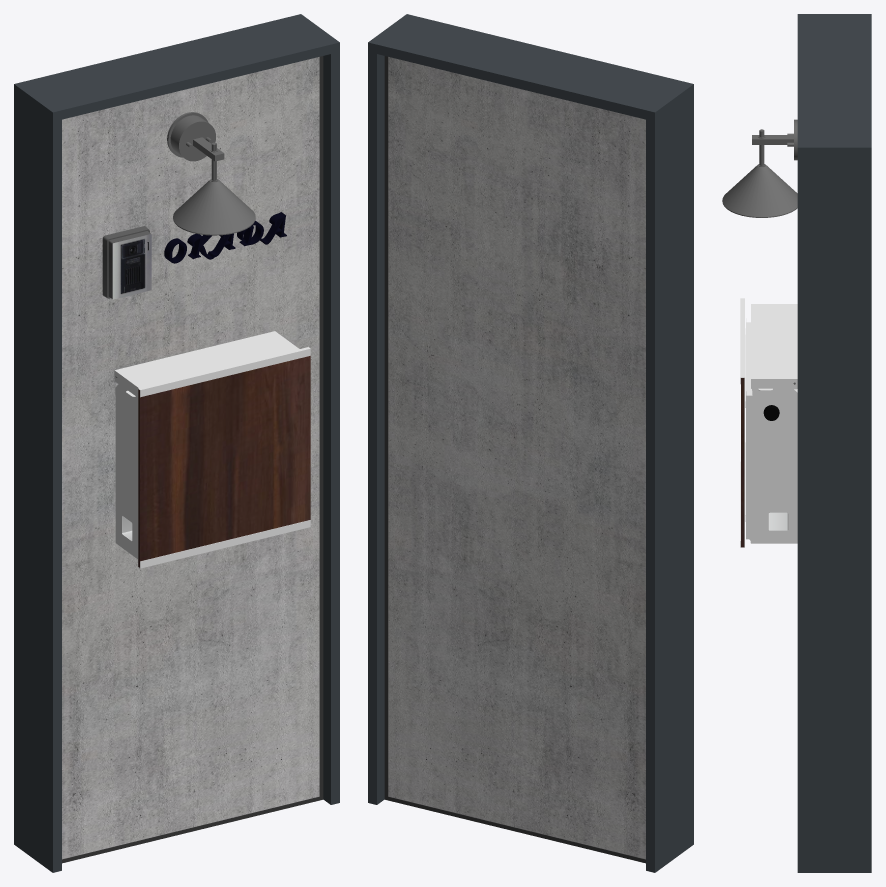
File: 640-1620_oldconcrete.fbx
The picture shows the model from 3 angles, left to right: view 1: azimuth 30°, elevation 25°; view 2: azimuth 150°, elevation 25°; view 3: azimuth 270°, elevation 25°; orthographic projection. The views are drawn at different scales.
Parts seen in each view (by area): view 1: 640-1620_oldconcrete; view 2: 640-1620_oldconcrete; view 3: 640-1620_oldconcrete.
Part boxes in pixels (x1,y1,x2,y2): 640-1620_oldconcrete: (14,14,339,872); 640-1620_oldconcrete: (368,14,693,872); 640-1620_oldconcrete: (722,14,871,872).
Size of the model in its own units: 64 by 162 by 30.22.
14 materials, 5 textured.
